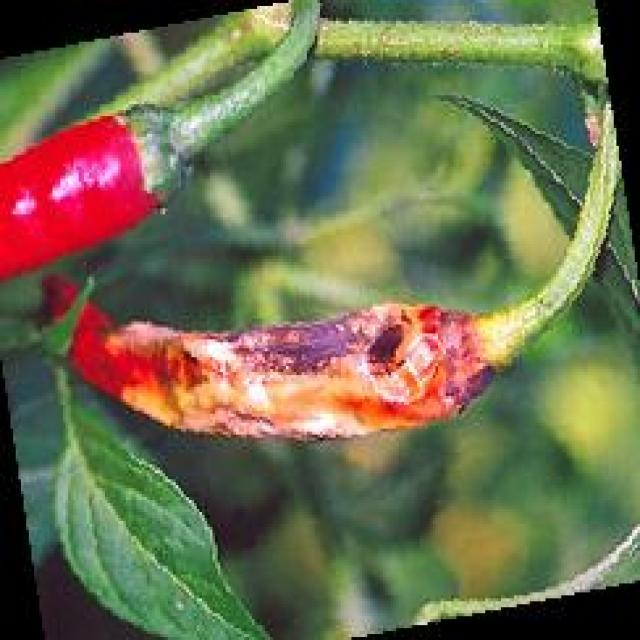Moko: (85, 268, 570, 455)
